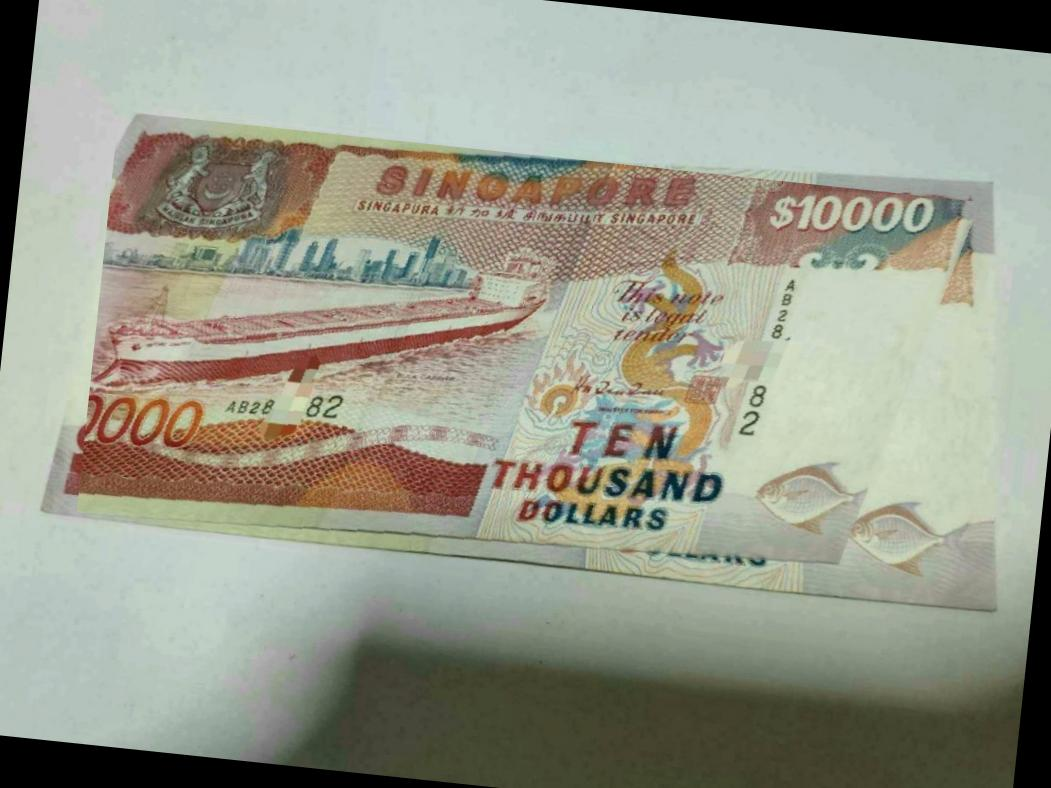10000SingaporeDollar: (77, 112, 990, 609)
